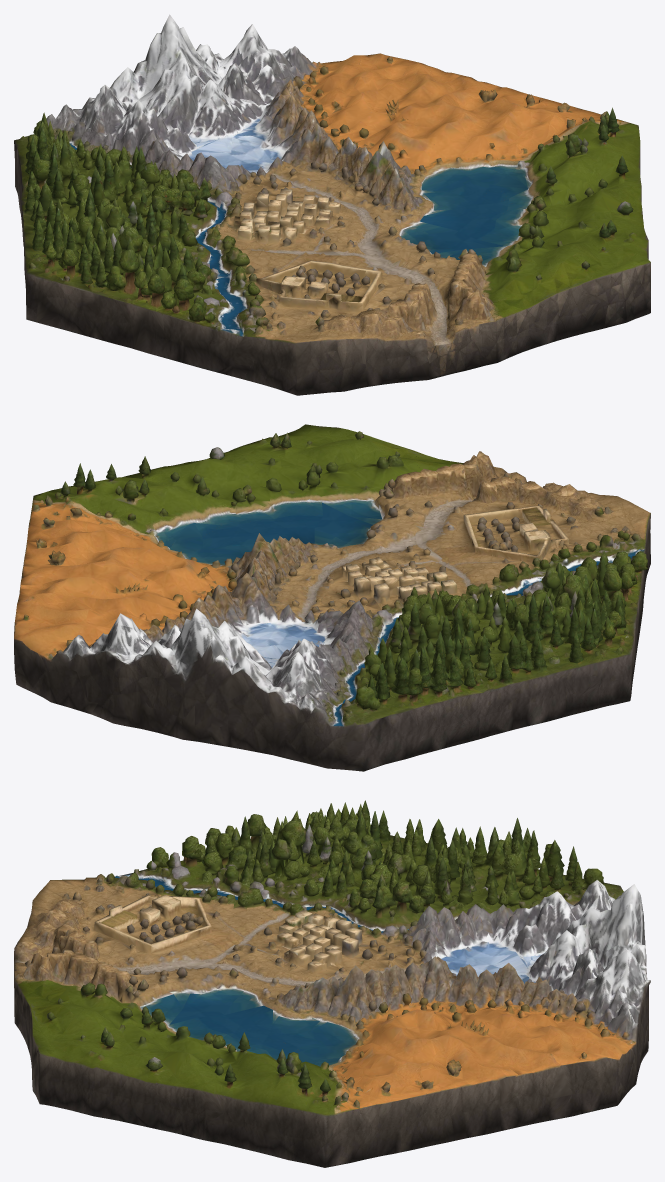
The model's file is sahar_basin.glb.
3 renders of one model, top to bottom at view 1: azimuth 30°, elevation 25°; view 2: azimuth 150°, elevation 25°; view 3: azimuth 270°, elevation 25°, orthographic.
Parts seen in each view (by area): view 1: outland_scenery, marj_region, naharin_region, sur_region, wall_scenery; view 2: outland_scenery, naharin_region, marj_region, wall_scenery, sur_region; view 3: outland_scenery, marj_region, naharin_region, sur_region, wall_scenery.
Part boxes in pixels (<box>): outland_scenery: <box>243,53,650,395</box>; marj_region: <box>188,149,555,379</box>; naharin_region: <box>14,112,257,378</box>; sur_region: <box>176,105,436,235</box>; wall_scenery: <box>23,14,318,159</box>; outland_scenery: <box>14,424,650,706</box>; naharin_region: <box>327,541,647,771</box>; marj_region: <box>131,450,649,635</box>; wall_scenery: <box>49,597,374,768</box>; sur_region: <box>162,533,432,659</box>; outland_scenery: <box>29,874,636,1167</box>; marj_region: <box>14,873,408,1071</box>; naharin_region: <box>105,800,623,933</box>; sur_region: <box>250,906,534,1034</box>; wall_scenery: <box>496,880,650,1079</box>.
Size of the model in its own units: 1 by 0.2031 by 0.9051.
1 material, 1 textured.
